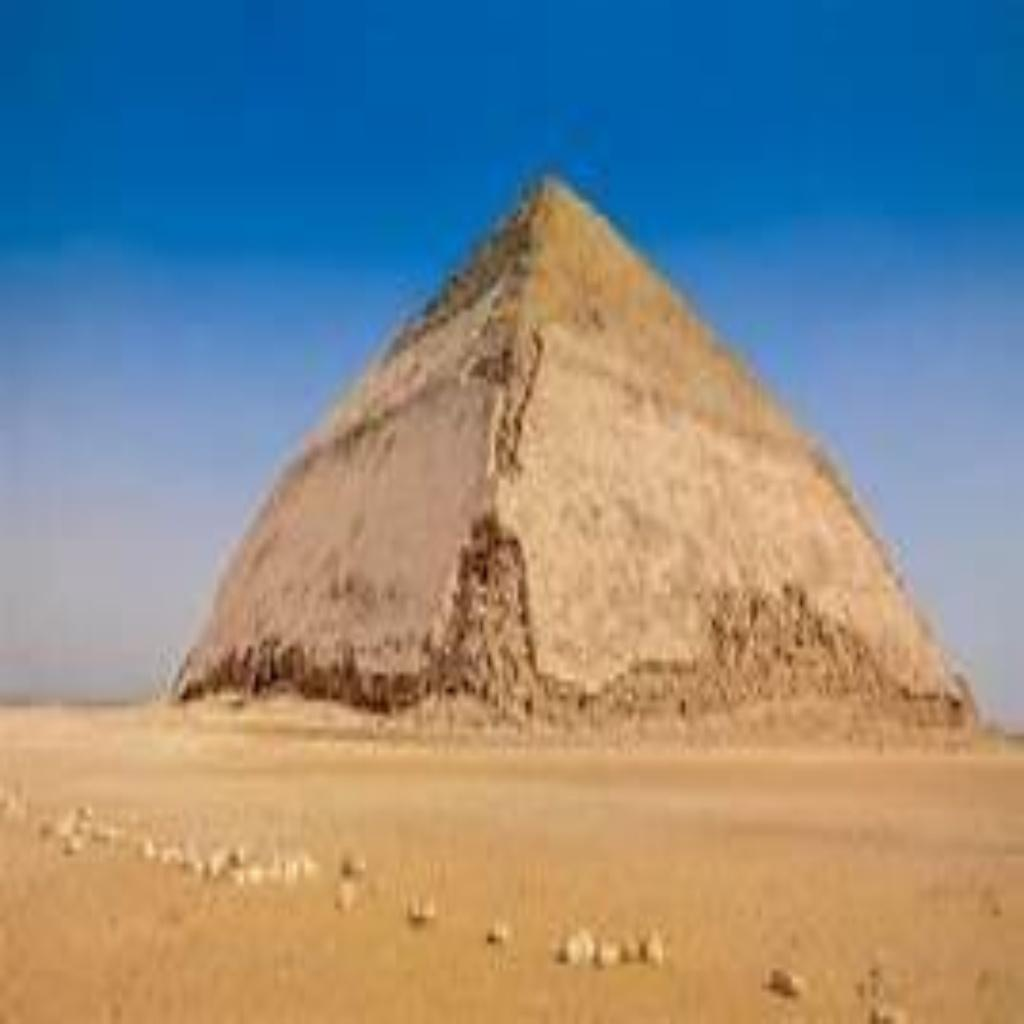Bent Pyramid of King Sneferu: (164, 155, 978, 748)
